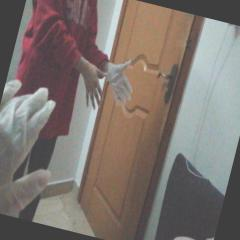gloved: (0, 77, 73, 224), (100, 55, 140, 109)
not-gloved: (73, 61, 108, 112)
